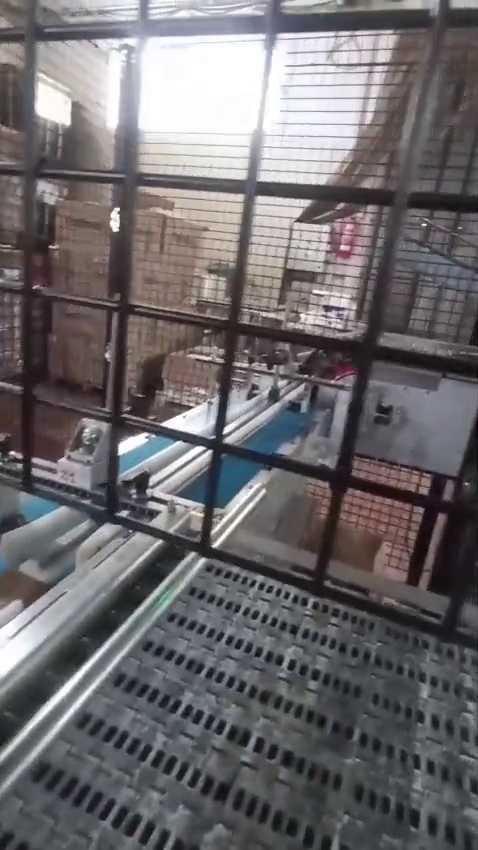savon: (138, 212, 210, 304), (130, 325, 191, 374), (64, 194, 108, 240), (337, 536, 384, 576), (0, 572, 24, 600), (202, 317, 228, 337), (5, 236, 24, 262), (178, 280, 194, 306)
